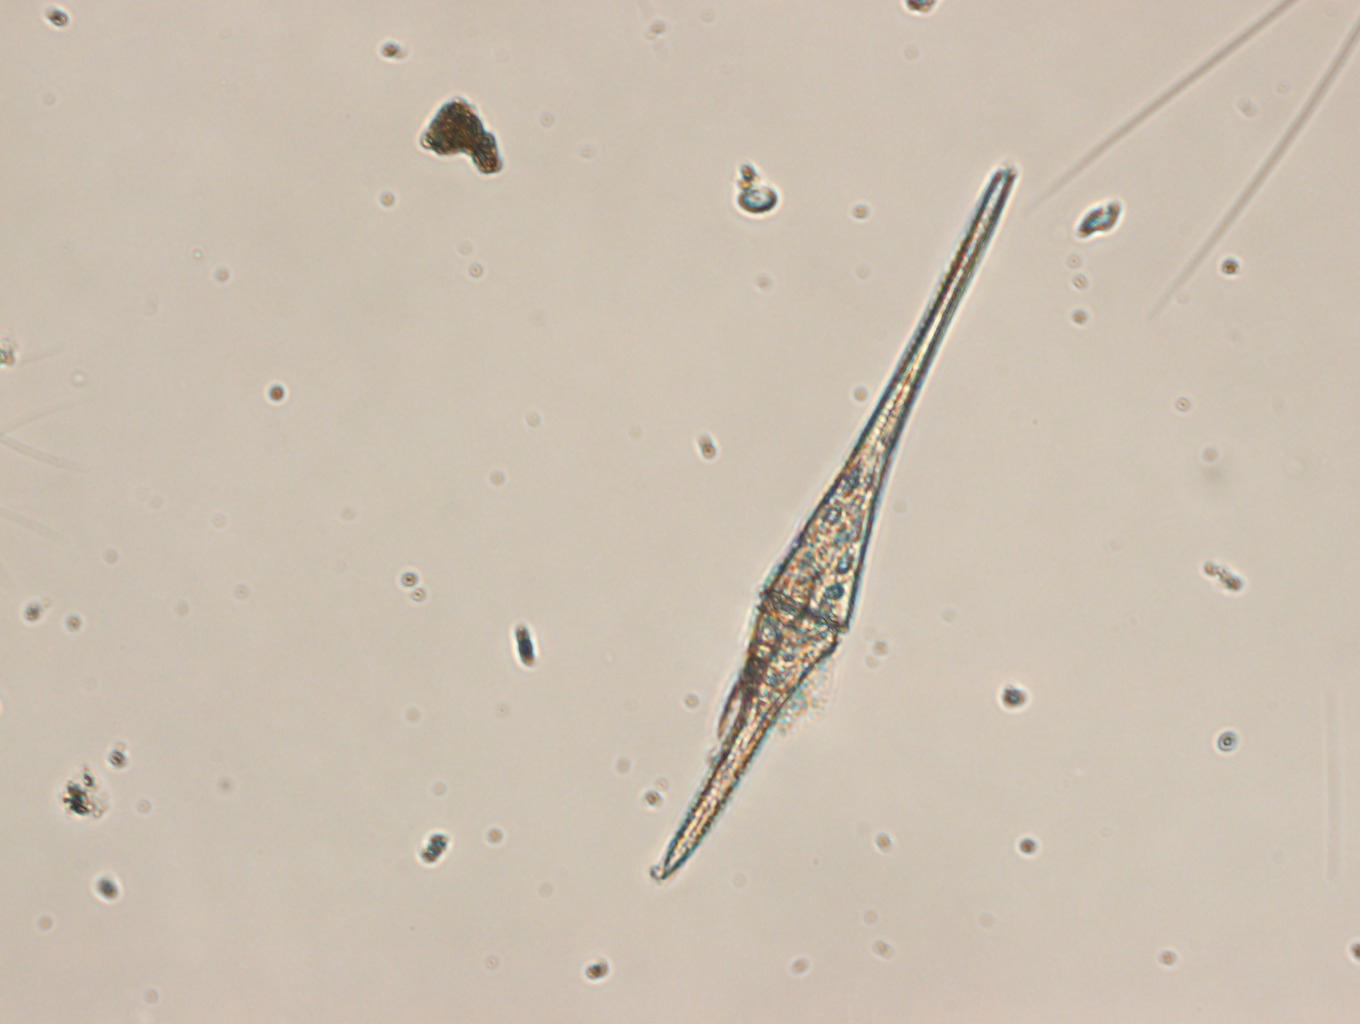ceratium furca: (636, 163, 1022, 882)
